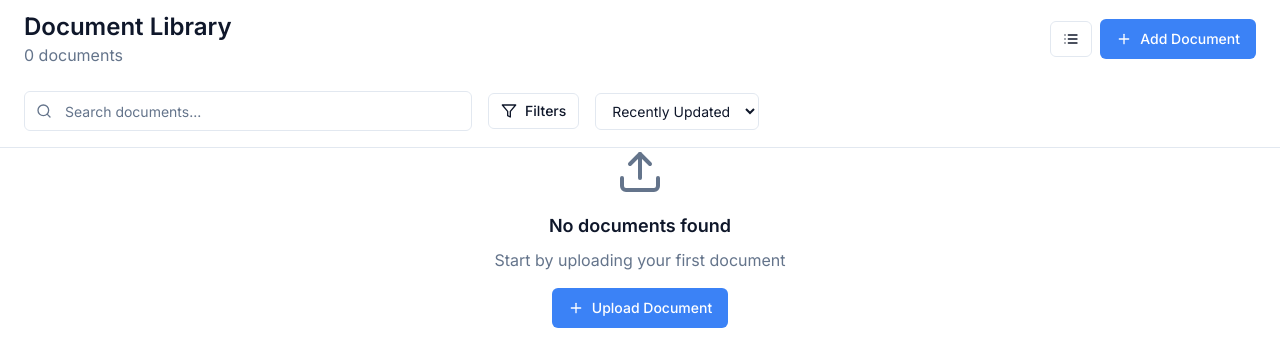
Test: LibraryView › Empty State Search › shows search-specific message when query returns no results
expect the heading "No documents found" is shown: met, box [549, 212, 731, 240]
Simulate having a search query
In the field with placeholder "Search documents...": (248, 111) [24, 91, 472, 131], type "xyz"
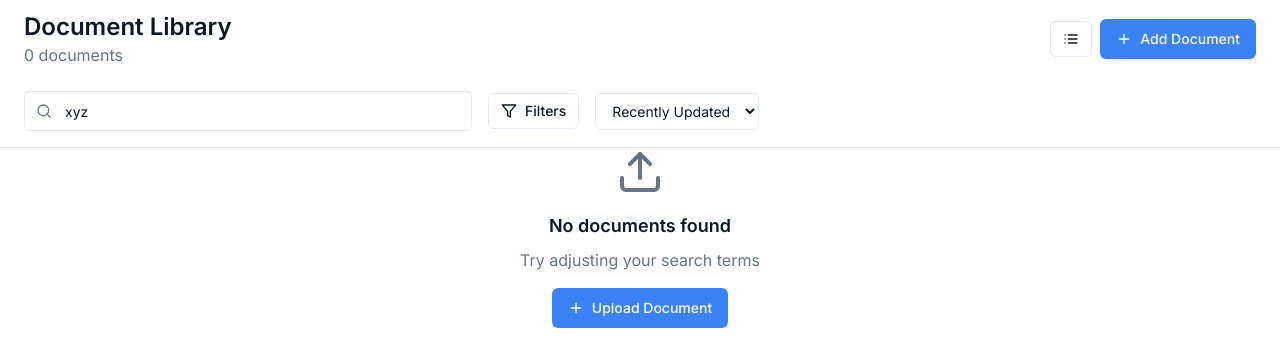
expect the text "Try adjusting your search terms" is shown: met, box [520, 248, 760, 272]
